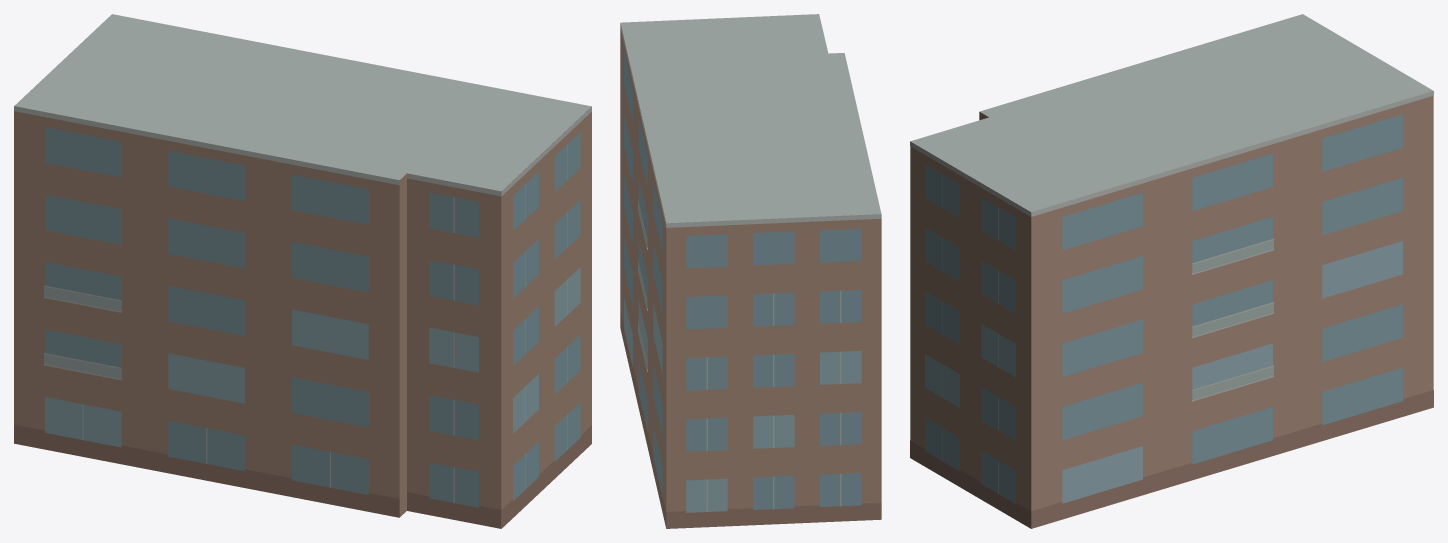
File: survey-upis-32711828.glb
3 renders of one model, left to right at view 1: azimuth 30°, elevation 25°; view 2: azimuth 150°, elevation 25°; view 3: azimuth 270°, elevation 25°, orthographic. The views are drawn at different scales.
Visible parts, largest first — view 1: survey-upis-32711828.tmp; view 2: survey-upis-32711828.tmp; view 3: survey-upis-32711828.tmp.
Boxes of the visible parts, box(x1,y1,x2,y2) form: survey-upis-32711828.tmp: box(14, 14, 591, 528); survey-upis-32711828.tmp: box(620, 14, 881, 528); survey-upis-32711828.tmp: box(910, 14, 1433, 528).
Bounding box in the file's own units: 21.76 × 16.2 × 24.29.
